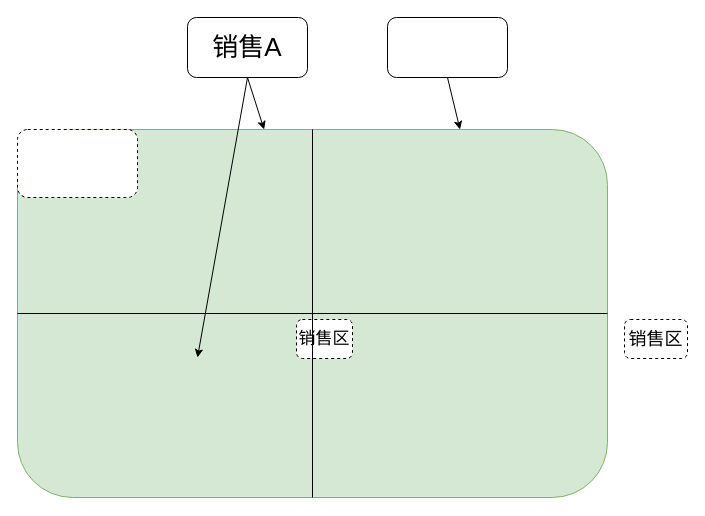
The diagram is 705 pixels wide and 516 high, and some of its shapes have lost their labels. Each missing label, with the centre of its shape:
"站区" goes at point 77,163.
"销售B" goes at point 447,47.
